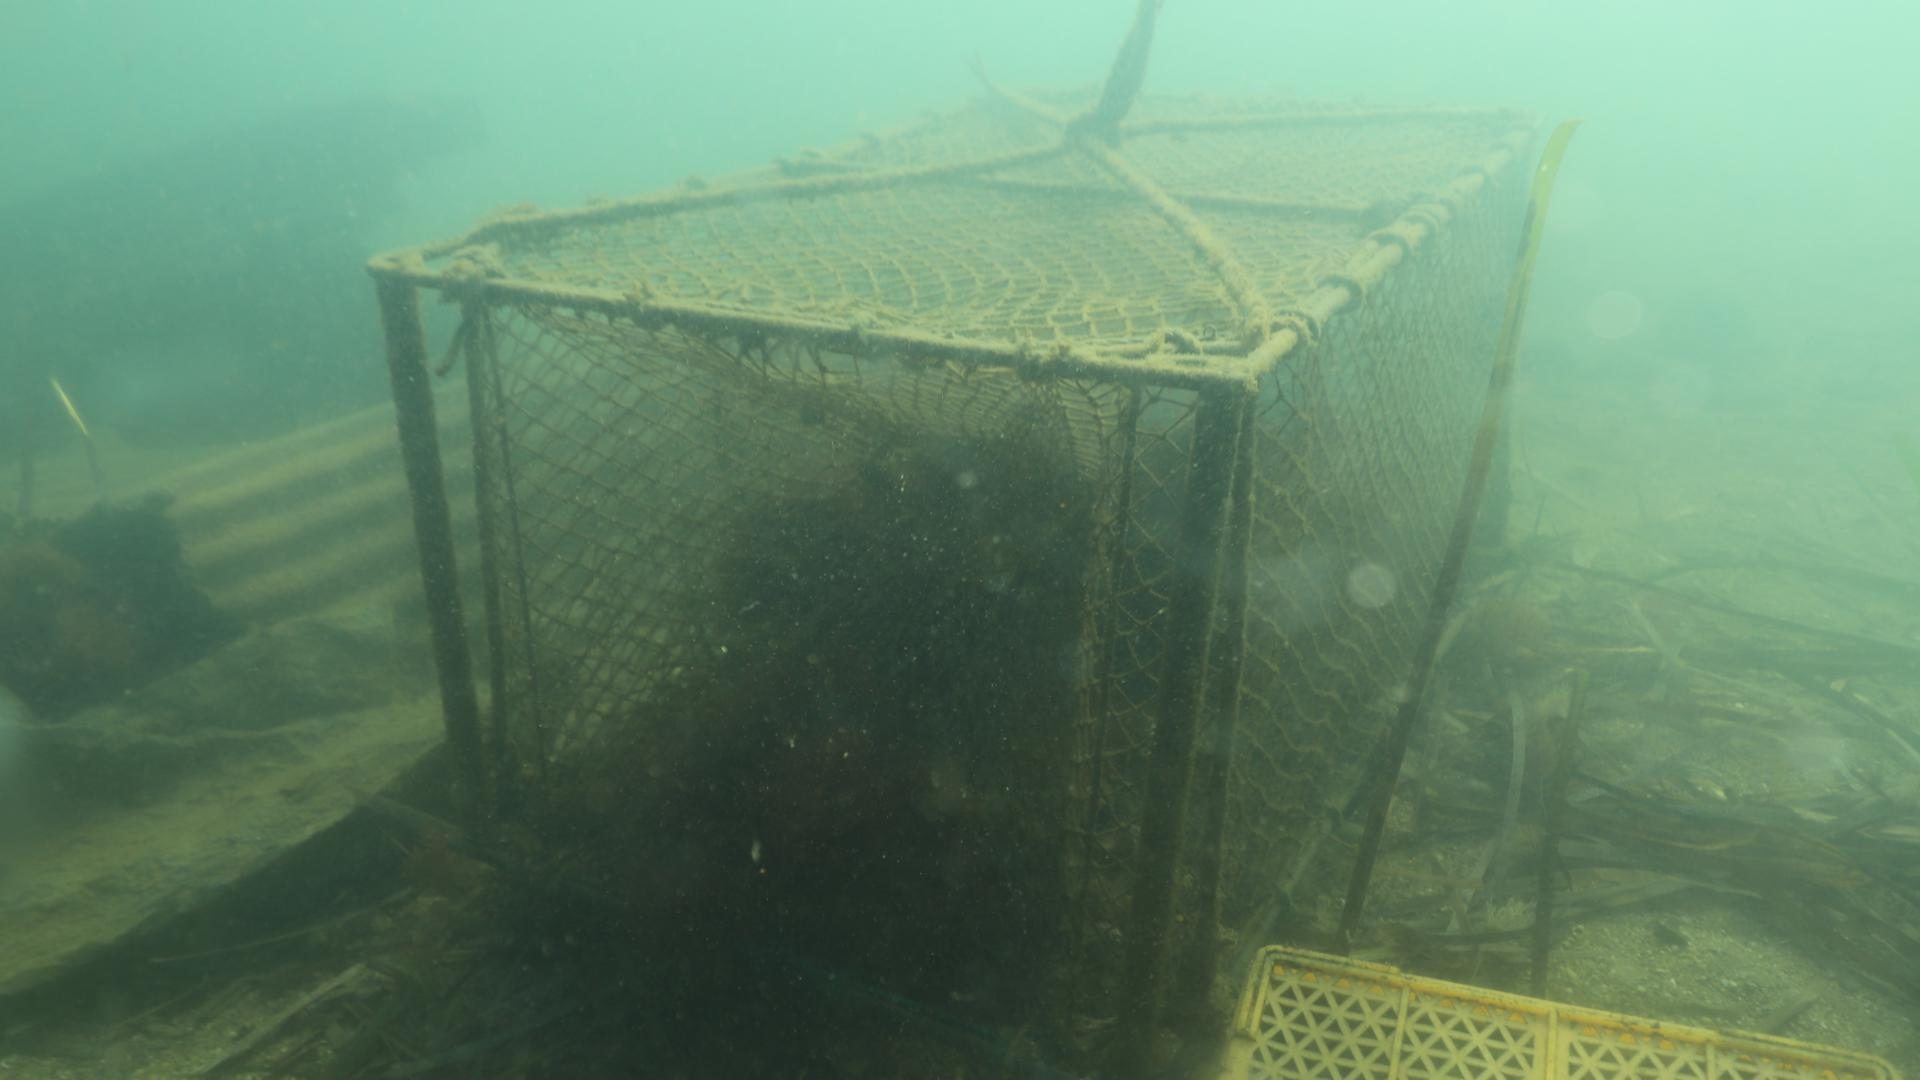bundle of ropes: (1058, 0, 1155, 145)
rectangular fish trap: (361, 78, 1551, 1080)
